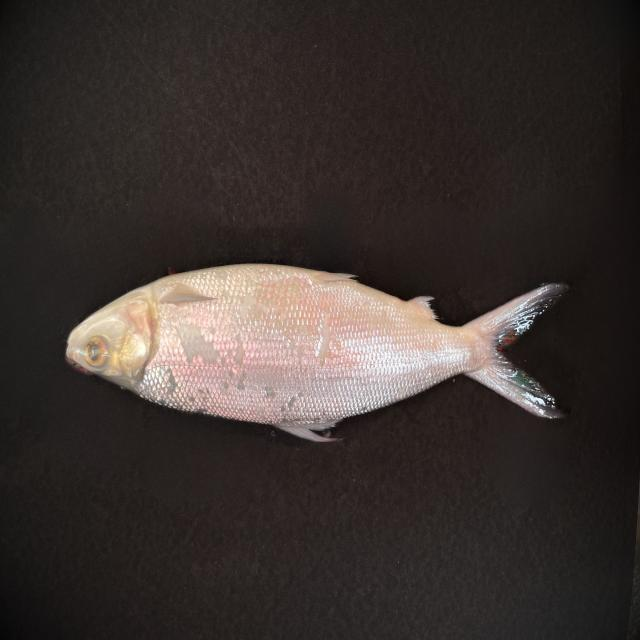720 g: (66, 263, 570, 443)
